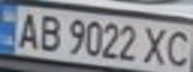0: (81, 18, 106, 57)
2: (118, 20, 142, 63), (100, 19, 124, 61)
9: (60, 16, 87, 55)
A: (9, 9, 45, 50)
B: (33, 11, 66, 52)
C: (160, 27, 193, 69)
X: (139, 24, 172, 66)
